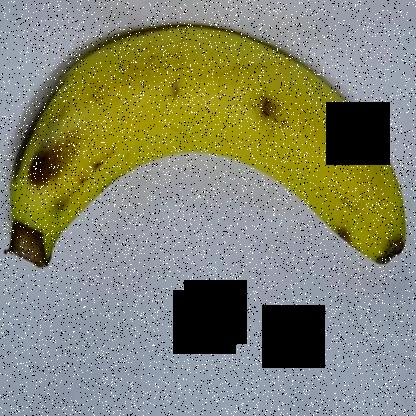freshripe: (1, 8, 415, 294)
